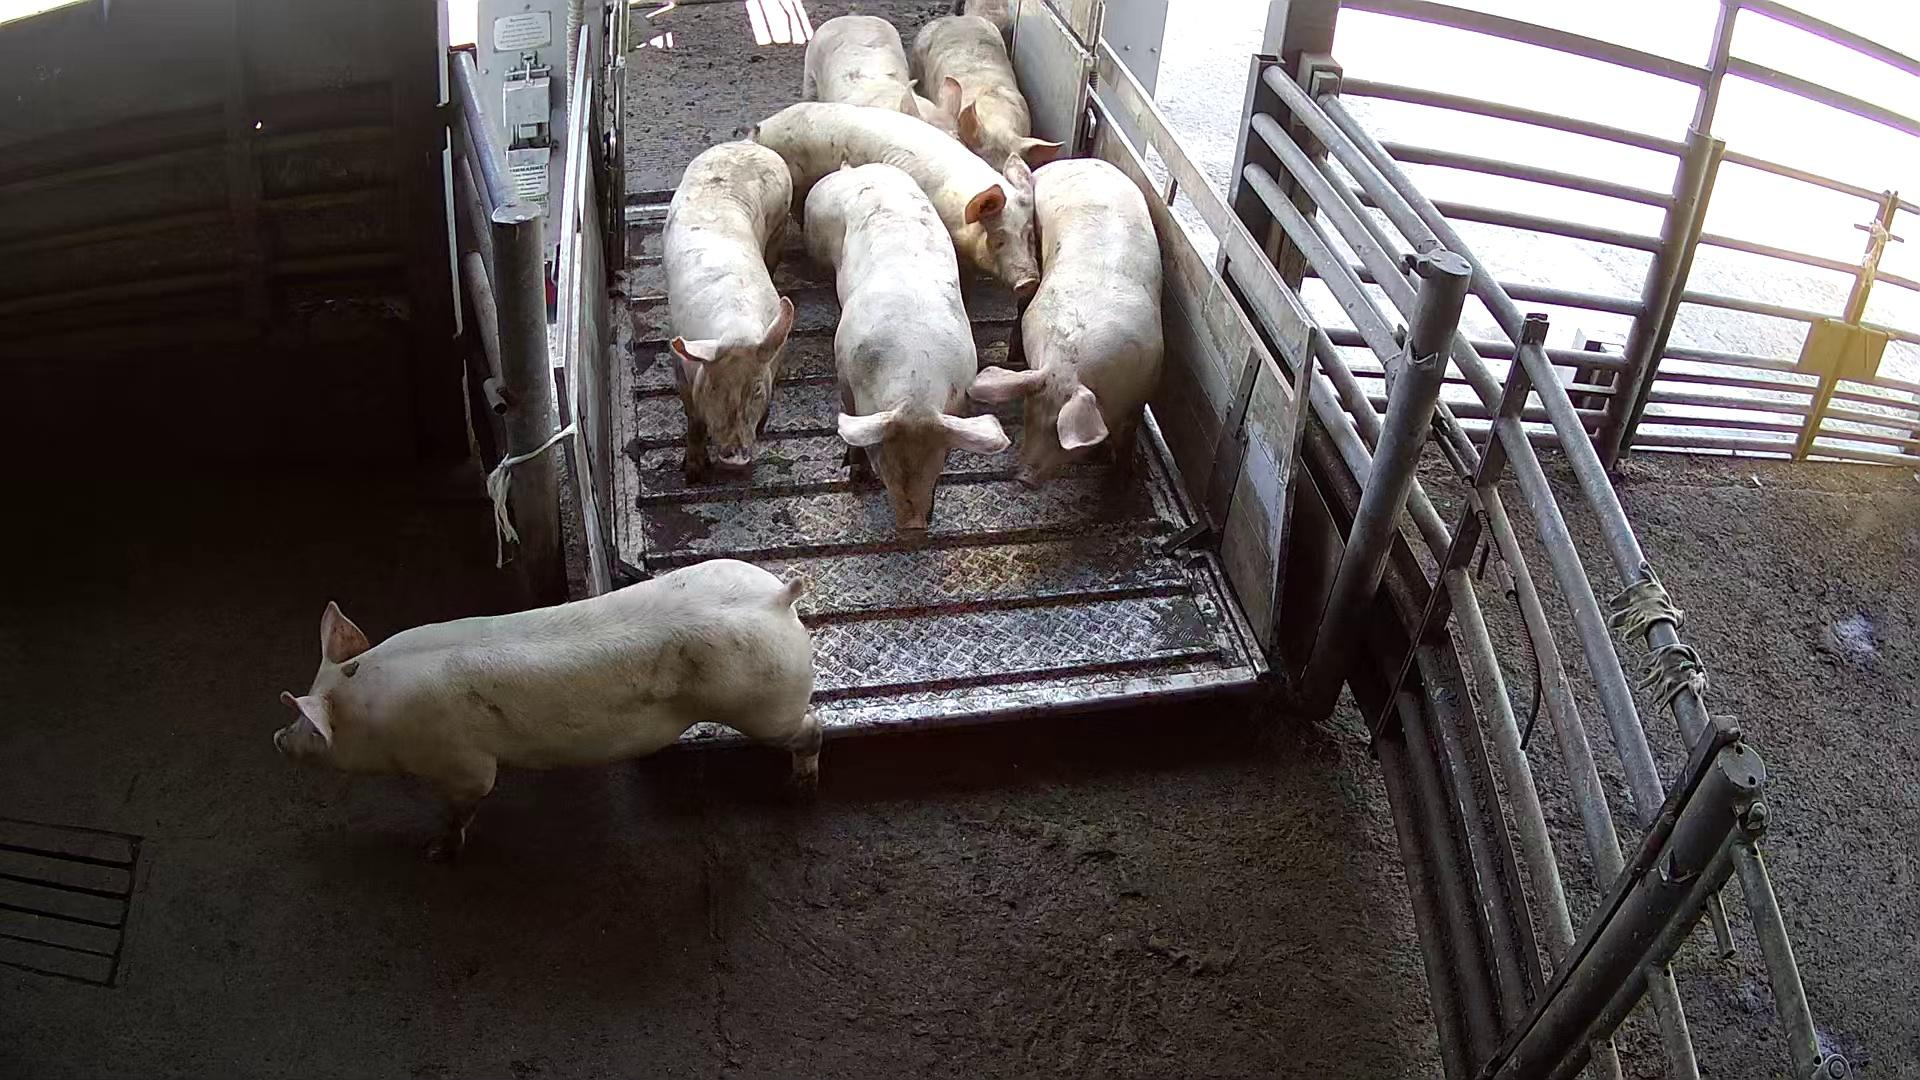Pig: (273, 560, 822, 852), (804, 162, 1009, 538), (969, 157, 1164, 485), (749, 99, 1040, 297), (662, 138, 794, 481), (910, 11, 1060, 189), (804, 11, 920, 113)
